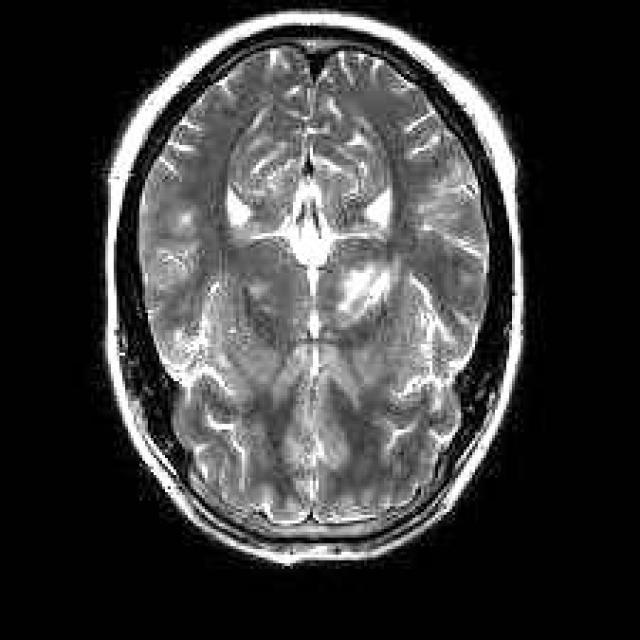notumor: (108, 11, 521, 563)
